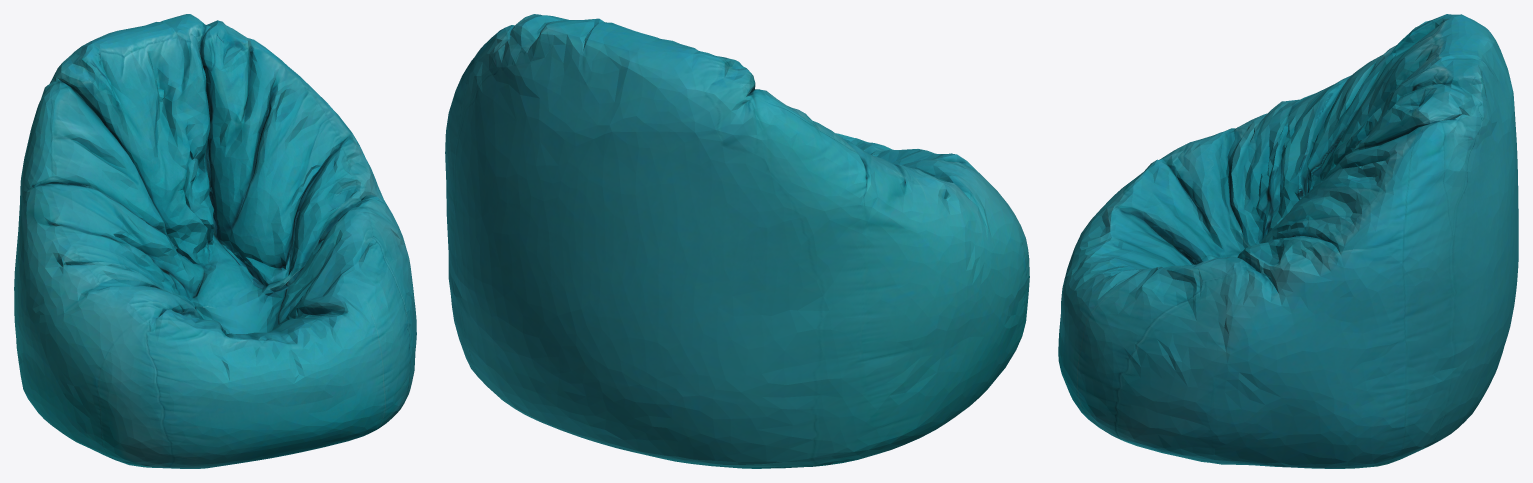
File: chairbag.fbx
3 views of the same model, side by side, from view 1: azimuth 30°, elevation 25°; view 2: azimuth 150°, elevation 25°; view 3: azimuth 270°, elevation 25° (orthographic). The views are drawn at different scales.
Visible parts, largest first — view 1: temp; view 2: temp; view 3: temp.
Part boxes in pixels (bbox=[...]): temp: bbox=[14, 14, 416, 468]; temp: bbox=[445, 14, 1029, 468]; temp: bbox=[1058, 14, 1518, 468].
Size of the model in its own units: 200 by 165 by 196.
1 material, 1 textured.
